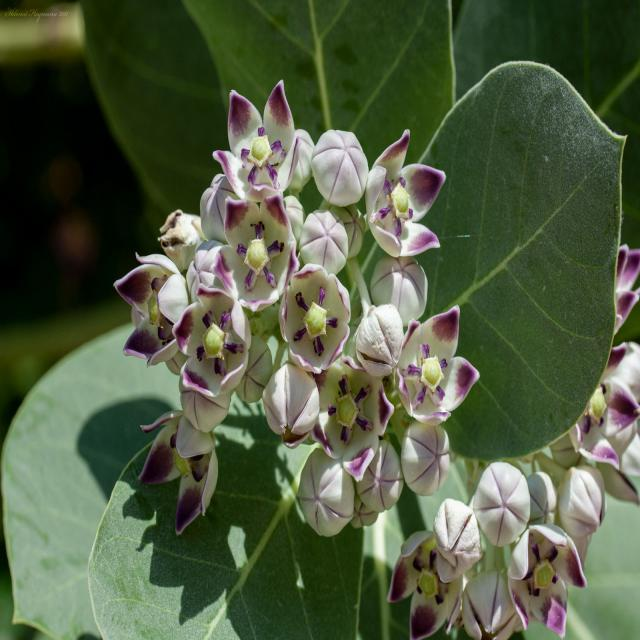Poisonous-Calatropis: (112, 81, 475, 640), (479, 60, 636, 456), (376, 447, 602, 633)
